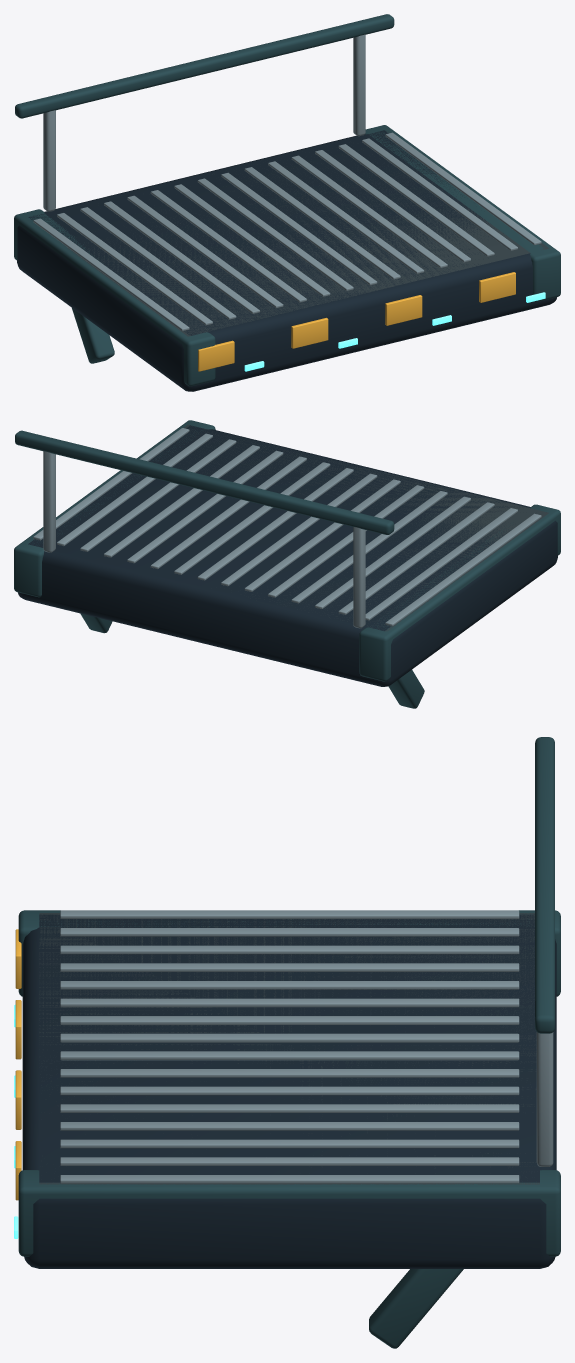
The model's file is catwalk_4m.glb.
3 views of the same model, one above another, from view 1: azimuth 30°, elevation 25°; view 2: azimuth 150°, elevation 25°; view 3: azimuth 270°, elevation 25° (orthographic). The views are drawn at different scales.
Parts seen in each view (by area): view 1: Reinforced deck, Hex fastener, Raised grip surface, Side casting, Front warning stripe, Front lamp; view 2: Reinforced deck, Hex fastener, Side casting, Raised grip surface; view 3: Reinforced deck, Hex fastener, Side casting, Raised grip surface, Front warning stripe.
Boxes of the visible parts, x1,y1,x2,y2 form: Reinforced deck: (17,130,556,391); Hex fastener: (33,34,541,331); Raised grip surface: (53,130,548,336); Side casting: (14,14,560,386); Front warning stripe: (198,272,515,371); Front lamp: (244,292,545,371); Reinforced deck: (18,425,557,686); Hex fastener: (33,428,541,628); Side casting: (14,420,560,708); Raised grip surface: (156,424,548,631); Reinforced deck: (22,914,556,1268); Hex fastener: (60,910,553,1183); Side casting: (18,737,560,1348); Raised grip surface: (39,913,539,1184); Front warning stripe: (15,929,21,1200).
Size of the model in its own units: 4 by 2.32 by 3.28.
